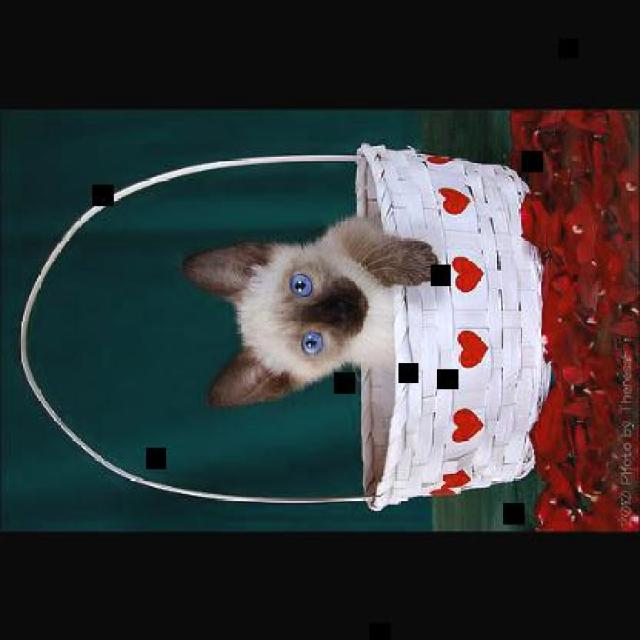unauthorized: (182, 212, 438, 408)
